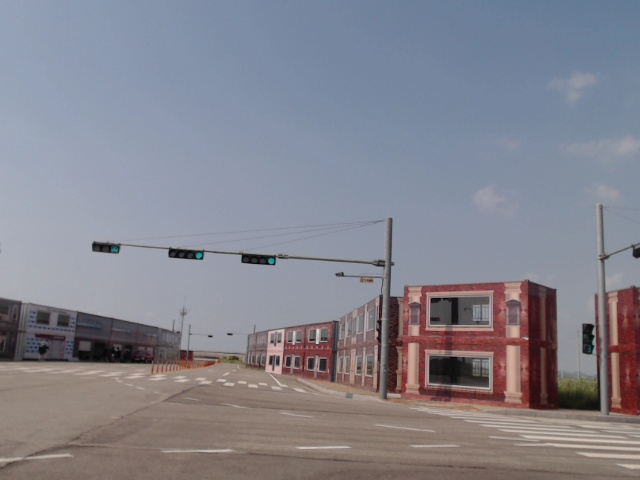straight_green_4: (168, 247, 205, 261), (243, 254, 276, 266)
